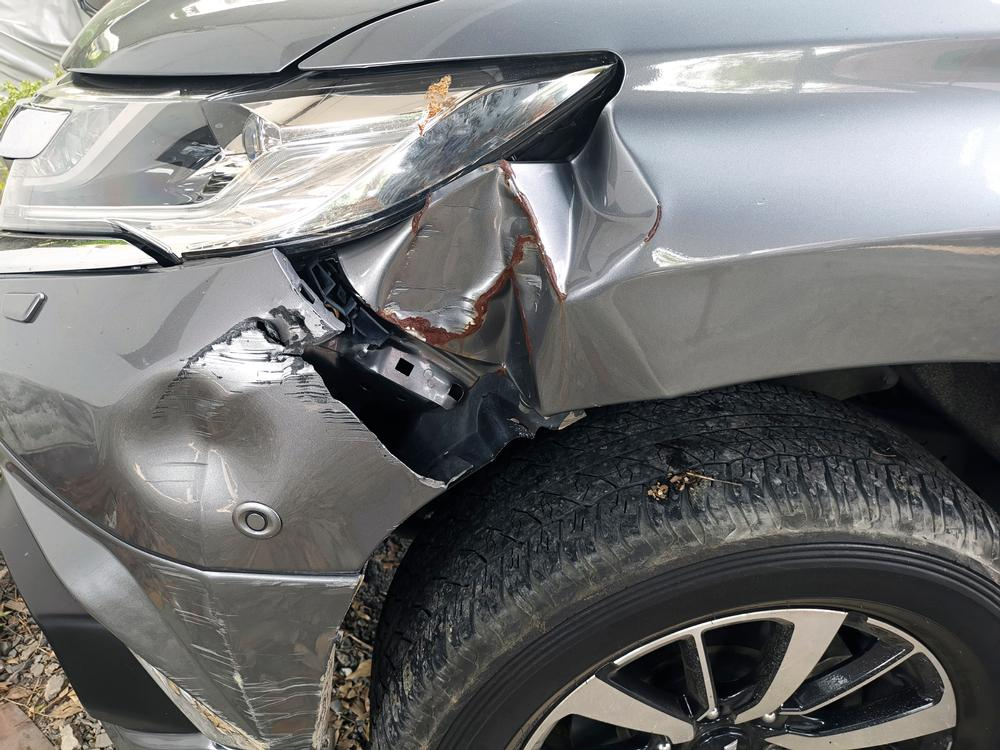crack: (251, 318, 286, 347)
dent: (369, 102, 667, 413), (102, 370, 285, 512)
scratch: (186, 304, 403, 468), (150, 564, 326, 750)
